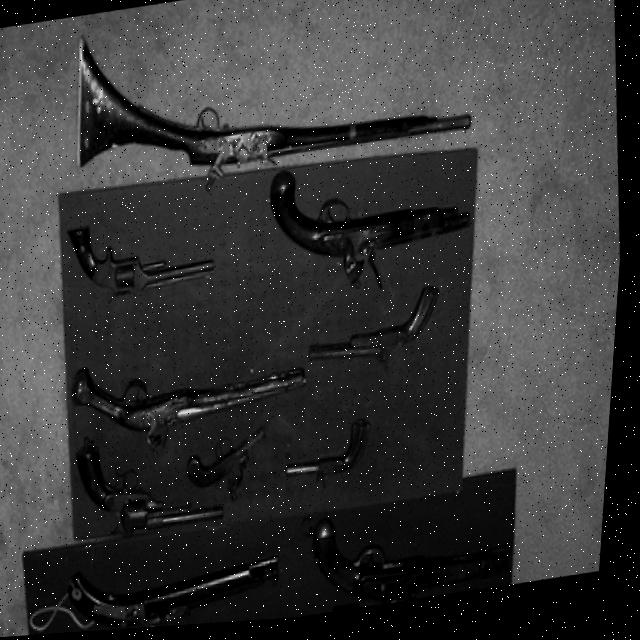firearm: (63, 0, 483, 214)
pistol: (68, 334, 319, 473), (265, 149, 482, 299), (299, 492, 522, 622), (73, 416, 237, 549), (68, 543, 293, 635), (64, 207, 222, 306), (305, 287, 451, 387), (185, 424, 277, 512), (284, 420, 381, 502)
